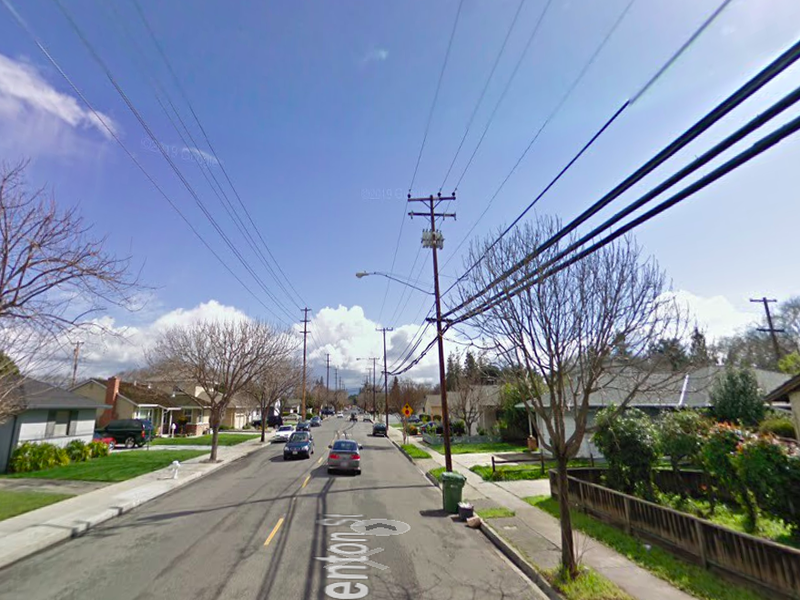tree: (450, 208, 722, 580), (143, 317, 298, 462)
utility_pole: (399, 182, 461, 259), (296, 304, 314, 339)
